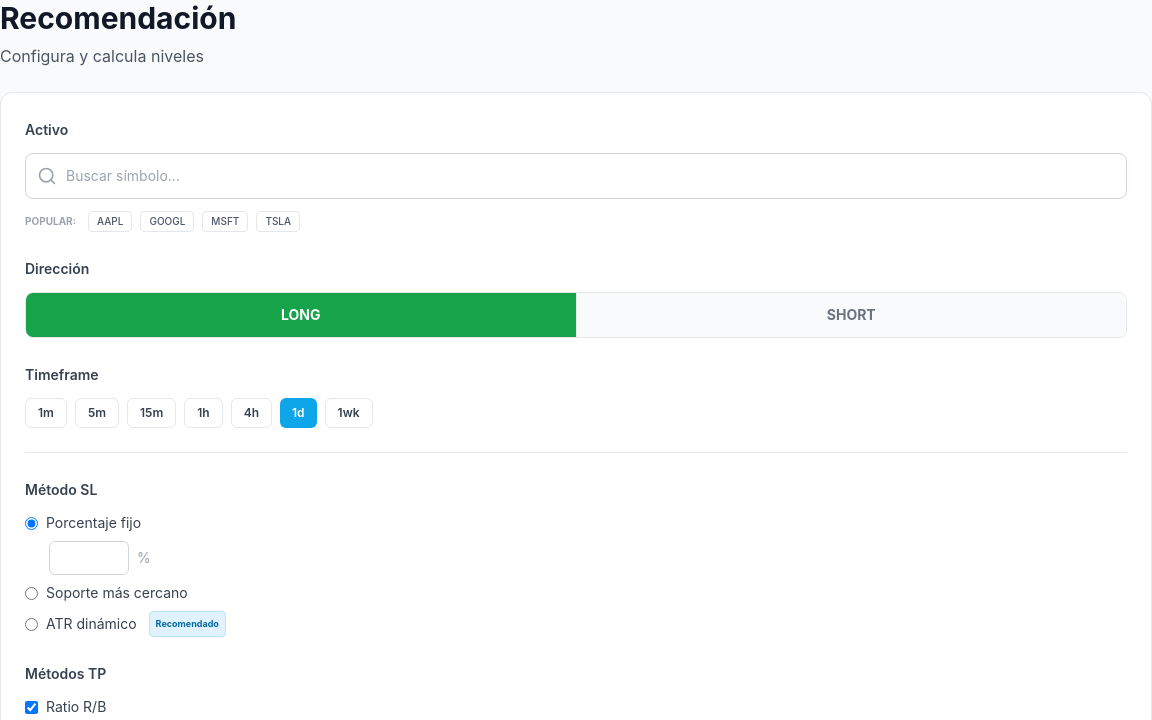
Test: RecommendationPage › chat sends a message after calculation and appends assistant response
The image size is (1152, 720).
Click the button "AAPL": coordinates (110, 222) [88,211,132,232]
(page scrolled)
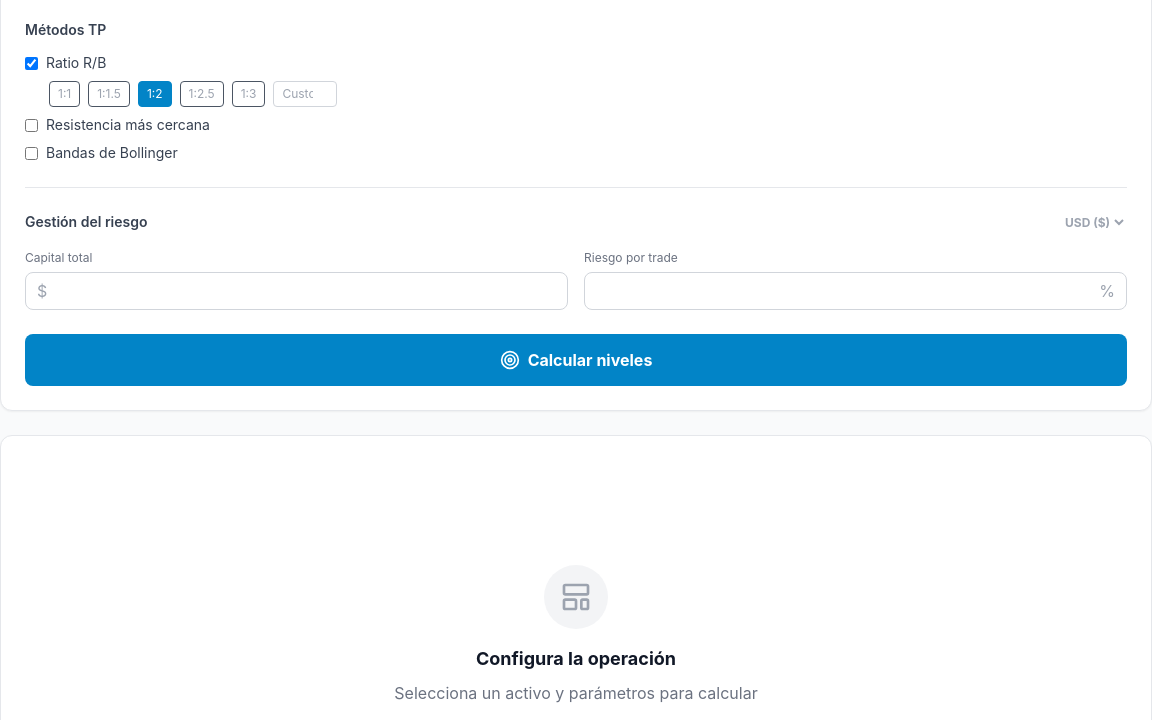
Click the button "Calcular niveles": coordinates (576, 360) [25,334,1127,386]
(page scrolled)
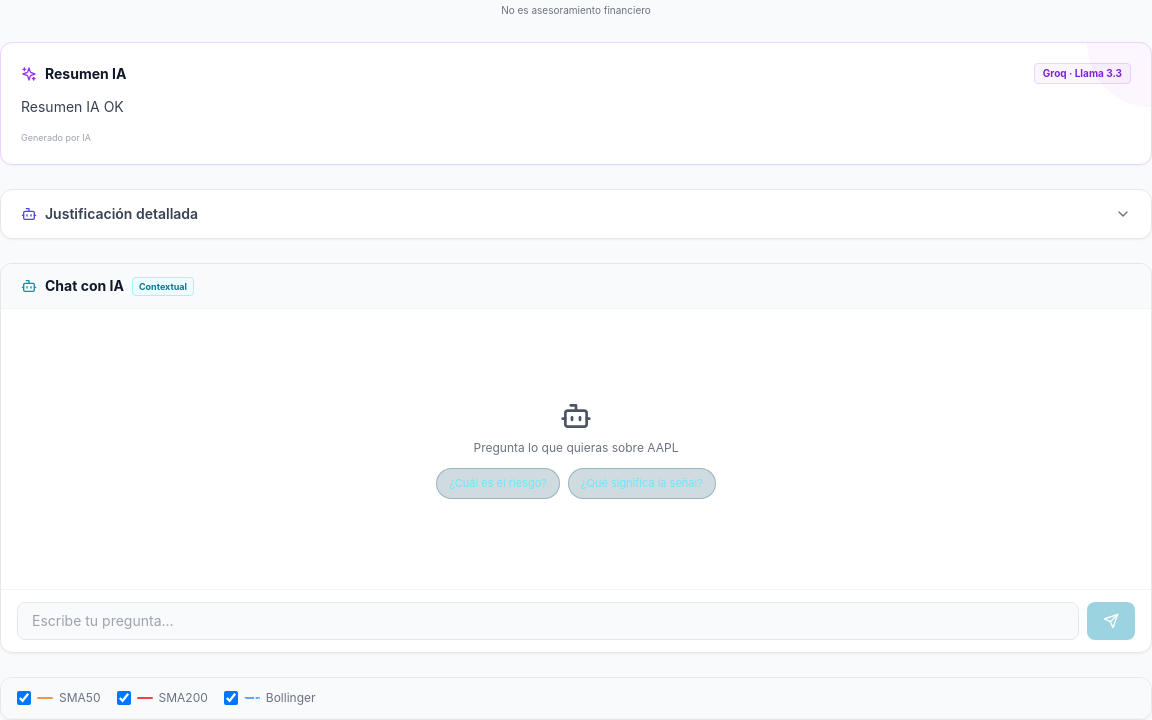
Expected: the heading "Chat con IA" is shown, [45,276,124,296]
Expected: the field with placeholder "Escribe tu pregunta…" is enabled
In the field with placeholder "Escribe tu pregunta…": coordinates (548, 621) [17,602,1079,640], type "¿Qué opinas?"
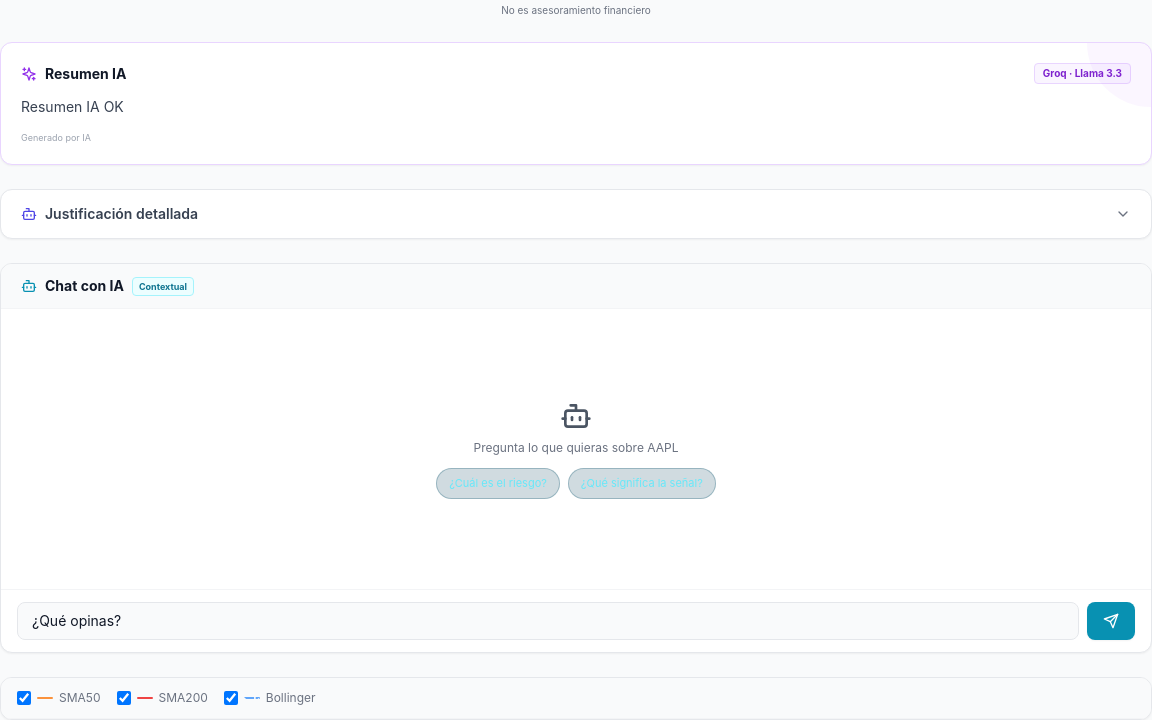
Click the 4th button: coordinates (1111, 621) [1087,602,1135,640]
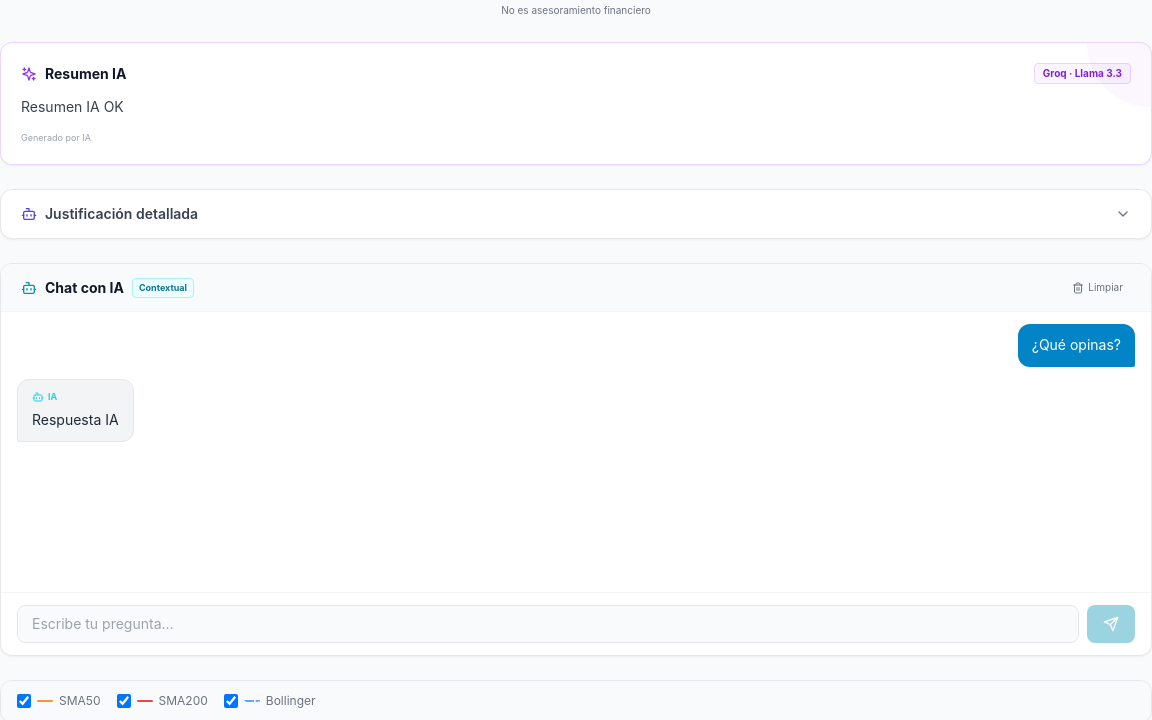
Expected: the text "Respuesta IA" is shown, [32,411,119,428]
